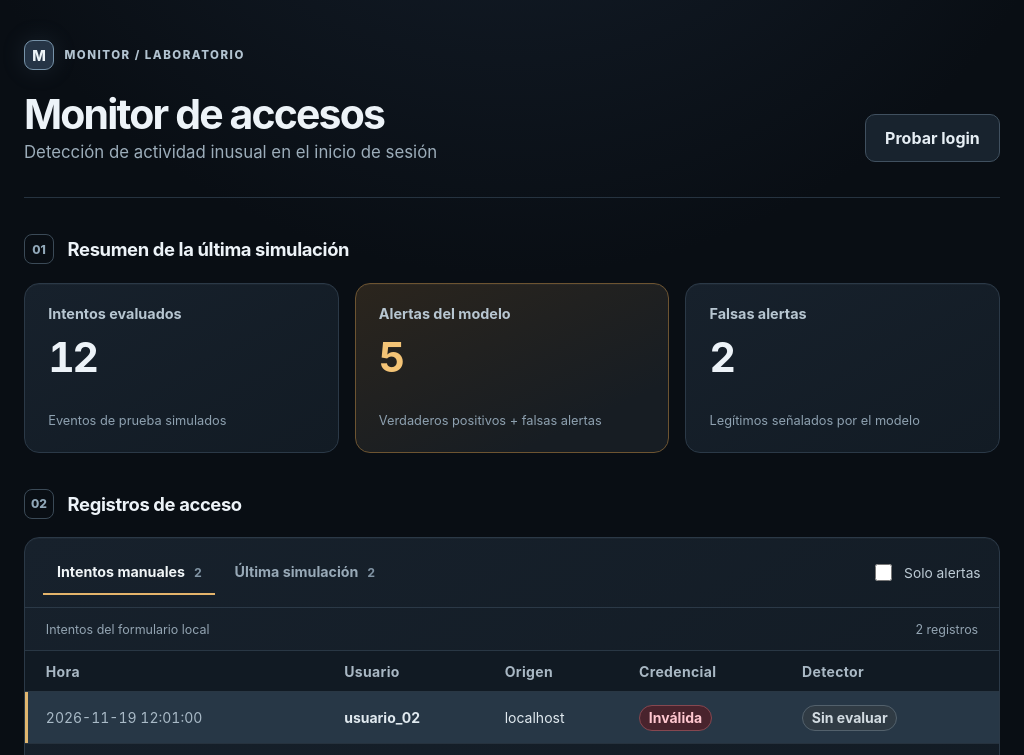
Test: monitor de accesos › resets selection on tab change and shows the selected row's observations
This screenshot has width=1024, height=755.
Step 1. Click the tab "Última simulación 2" → (305, 573), box [221,550,389,595]
(page scrolled)
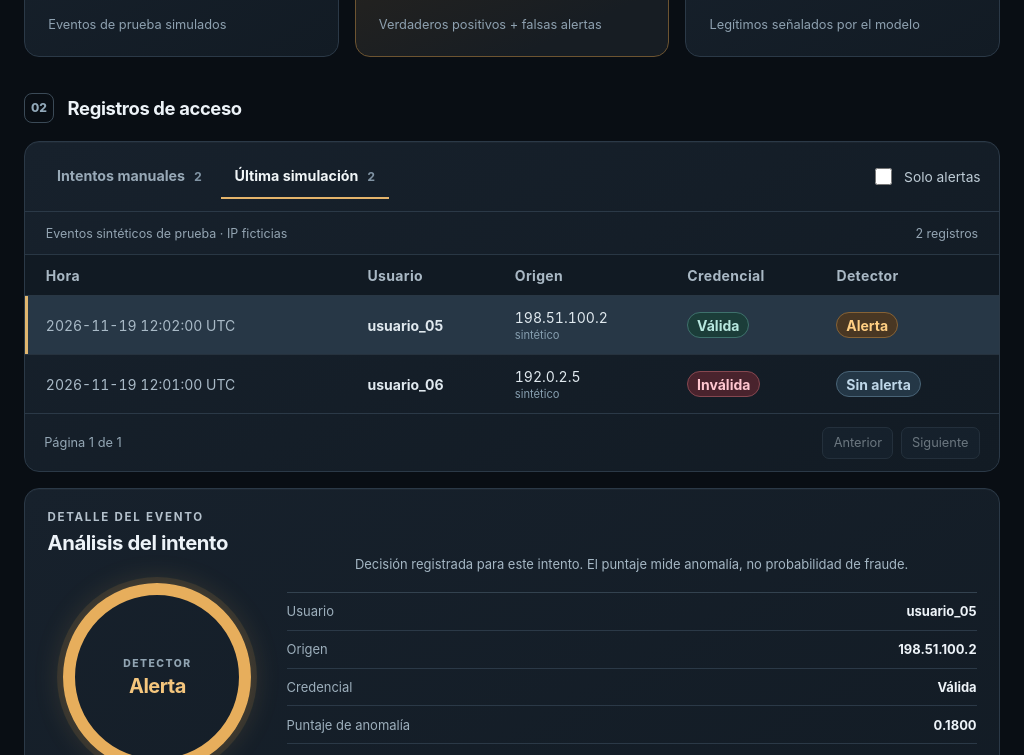
Now the text "Alerta" below "Análisis del intento" is shown, box [129,674,186,698]
Now the text "0.1800" is shown, box [934,717,977,733]
Step 2. Click the row "usuario_06" → (512, 384), box [25,355,999,413]
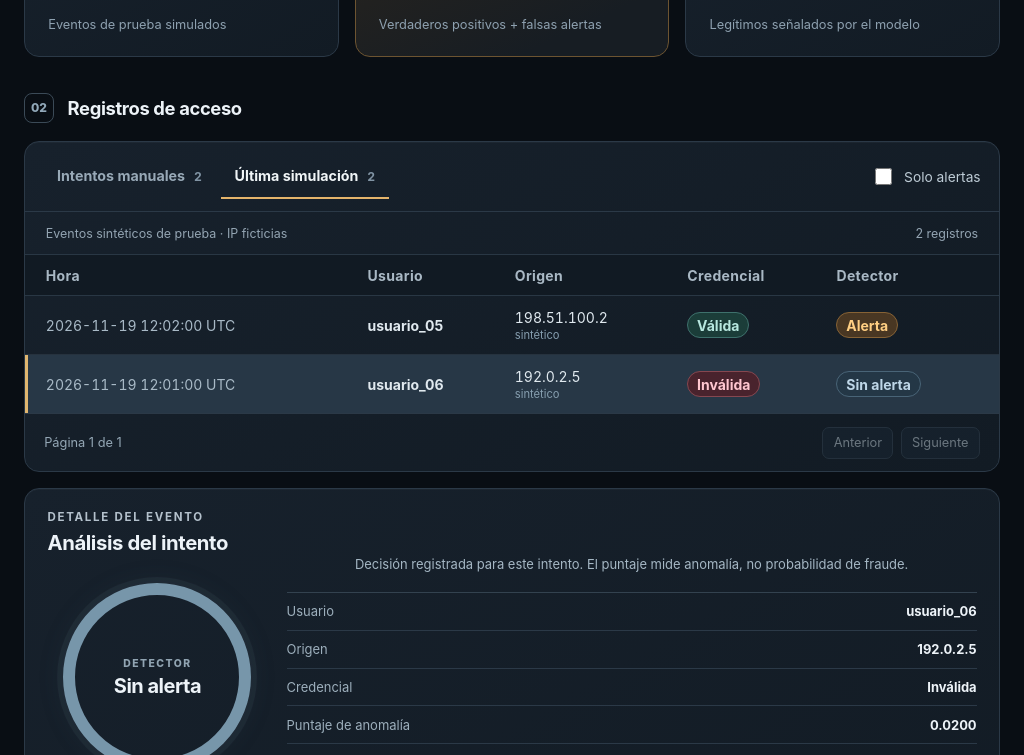
Now the text "Sin alerta" below "Análisis del intento" is shown, box [114,674,201,698]
Now the text "0.0200" is shown, box [930,717,977,733]
Step 3. Click the tab "Intentos manuales 2" → (129, 177), box [43,154,215,199]
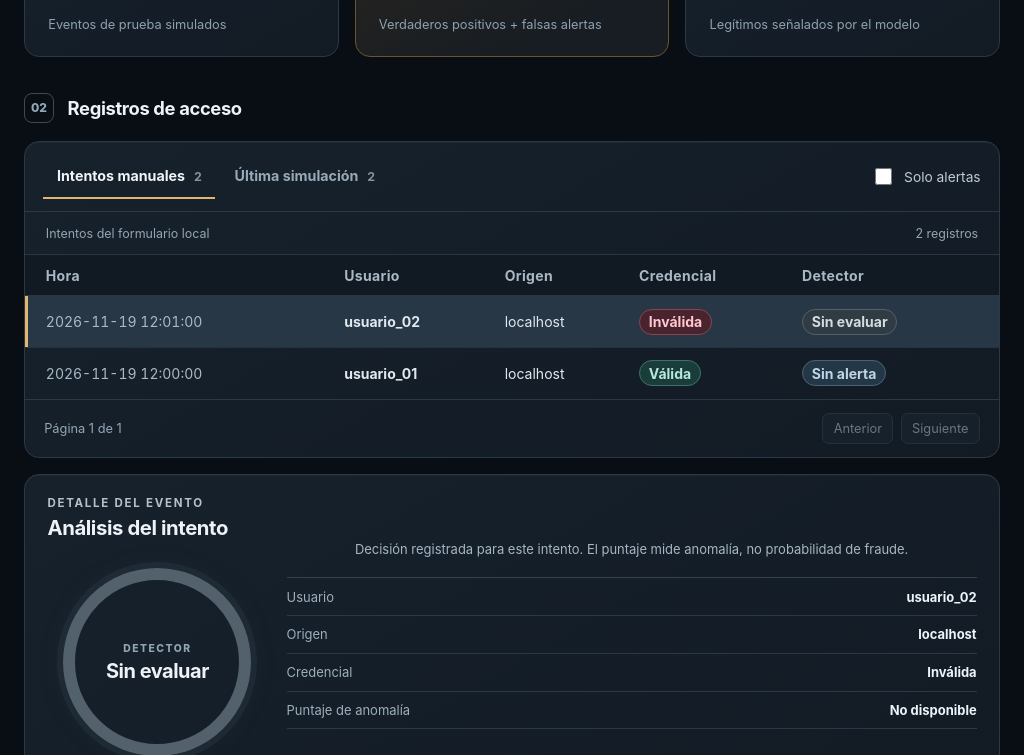
Now the text "Sin evaluar" below "Análisis del intento" is shown, box [106,659,209,683]
